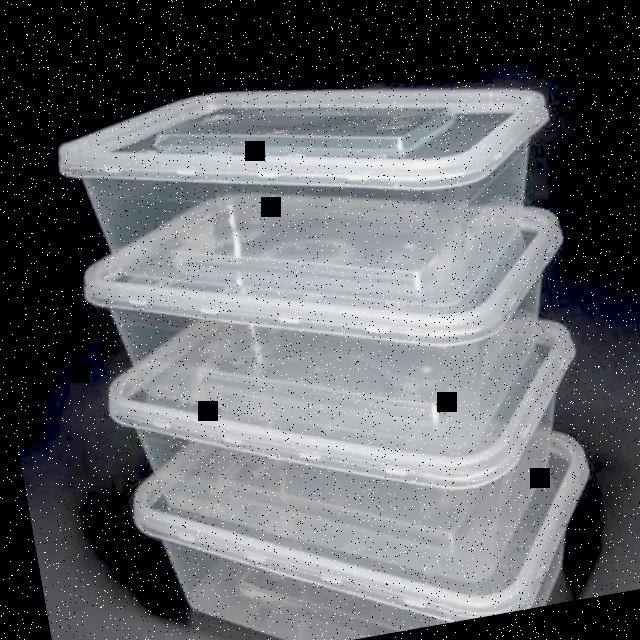plastic_box: (93, 230, 614, 638), (73, 135, 600, 509), (50, 29, 578, 370), (109, 343, 616, 640)
